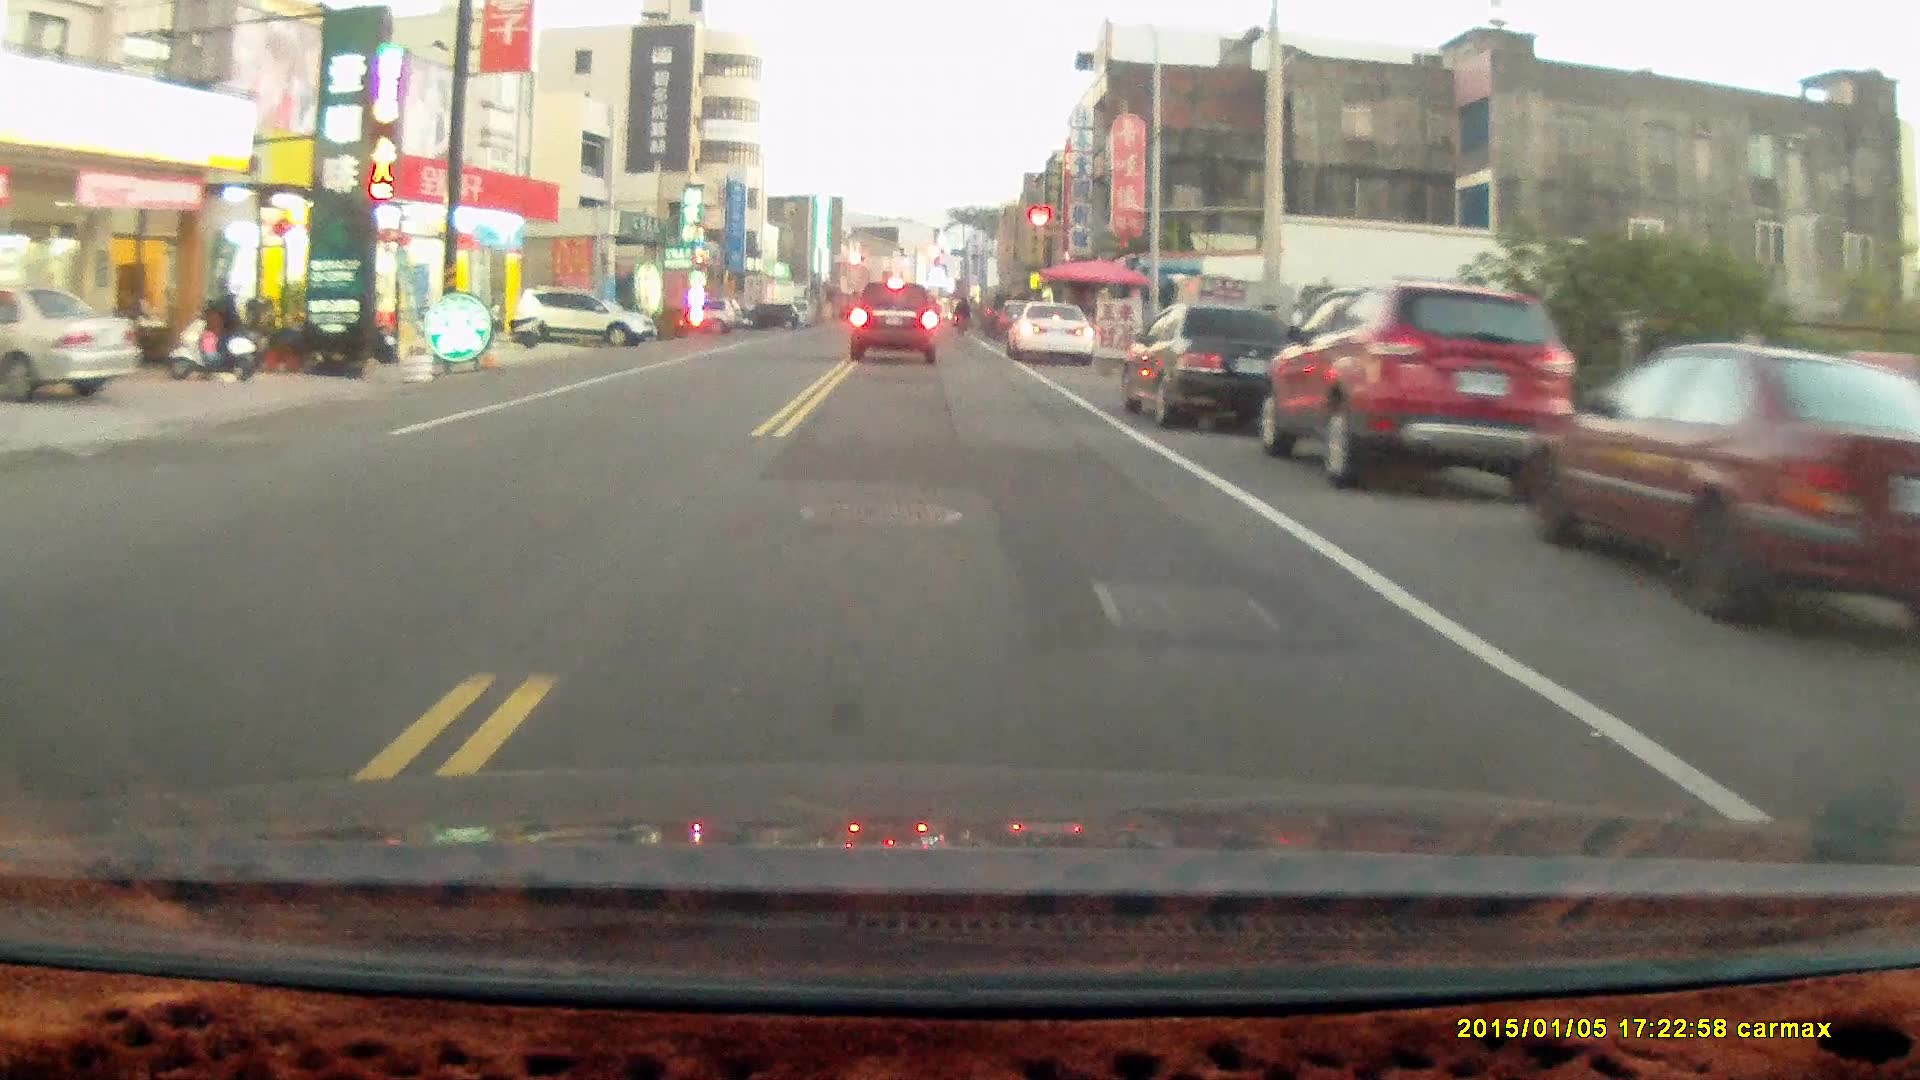vehicle: (1522, 342, 1920, 641), (1265, 280, 1582, 489), (1124, 297, 1299, 438), (1, 287, 142, 402), (516, 282, 662, 352), (849, 280, 939, 363), (1007, 301, 1096, 367)
